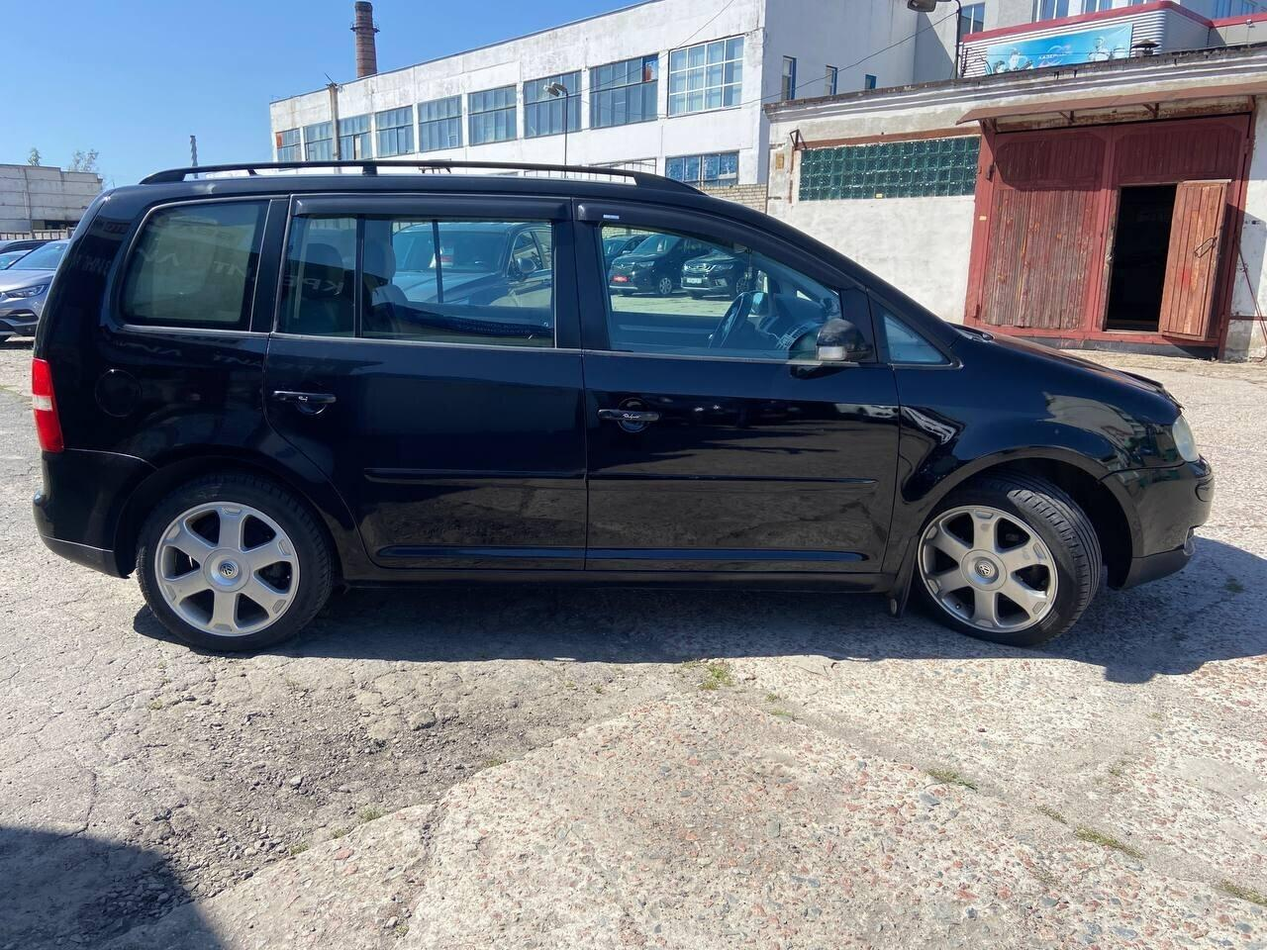Touran_2003-2006: (28, 172, 1216, 658)
